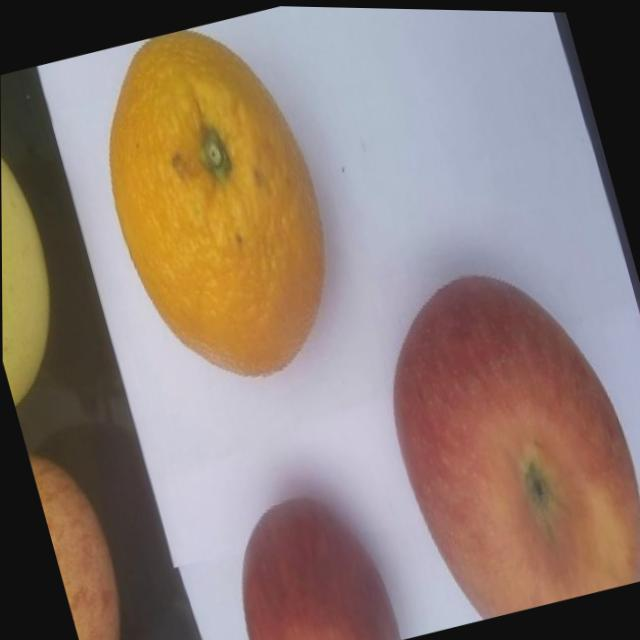Apple: (357, 240, 640, 628), (211, 476, 401, 640), (27, 440, 148, 640)
Orange: (72, 5, 359, 403)
